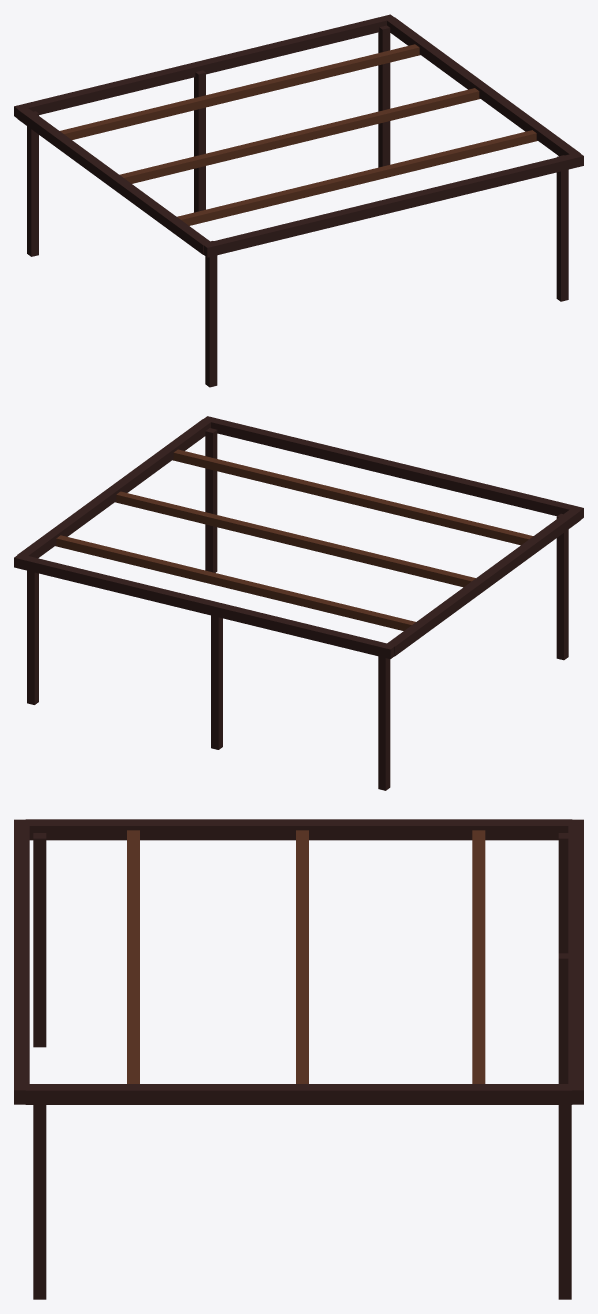
The model's file is wooden_beams.obj.
The picture shows the model from 3 angles, top to bottom: view 1: azimuth 30°, elevation 25°; view 2: azimuth 150°, elevation 25°; view 3: azimuth 270°, elevation 25°; orthographic projection. The views are drawn at different scales.
Bounding box in the file's own units: 8.92 × 3.31 × 7.92.
